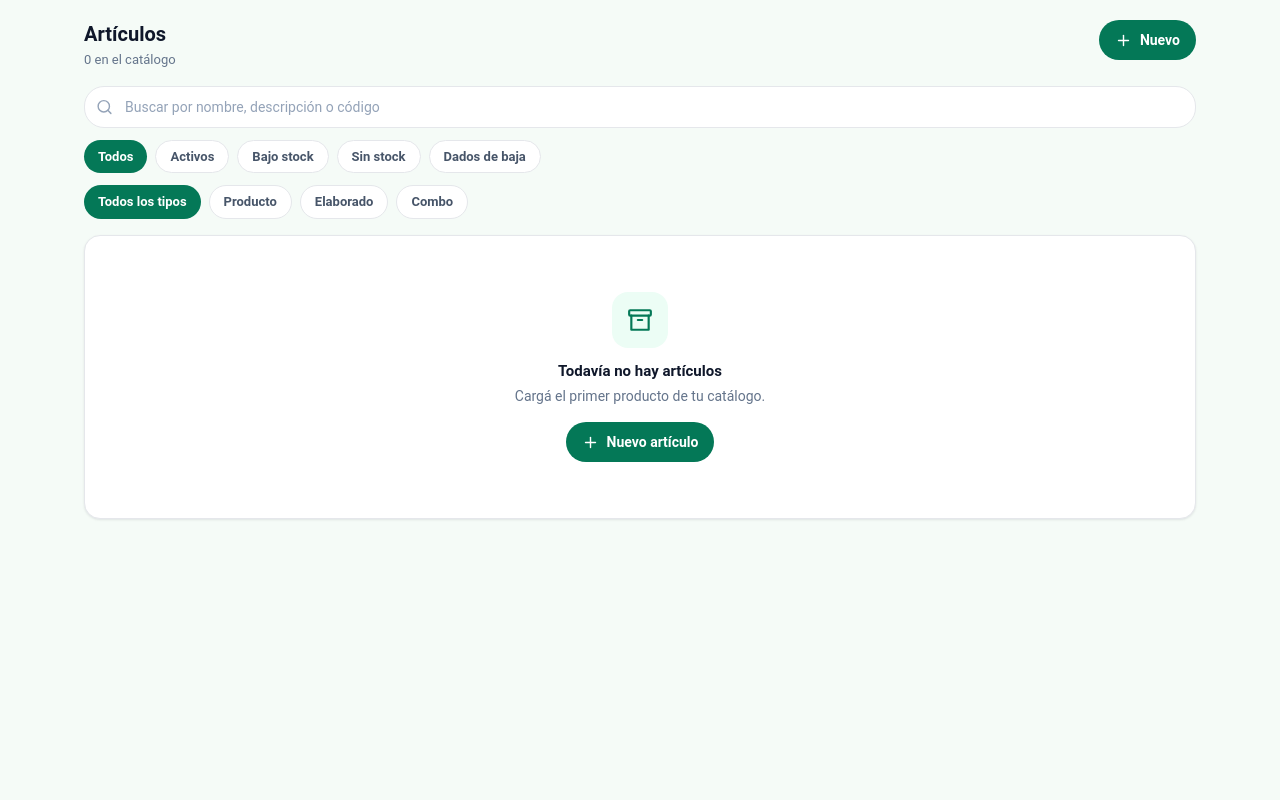
Scenario: el alta: el stock de un producto entra por Movimientos › restaurante: el combo sigue fijando su stock
Click the button "Nuevo". click: point(1147, 40)
box: [1099,20,1196,60]
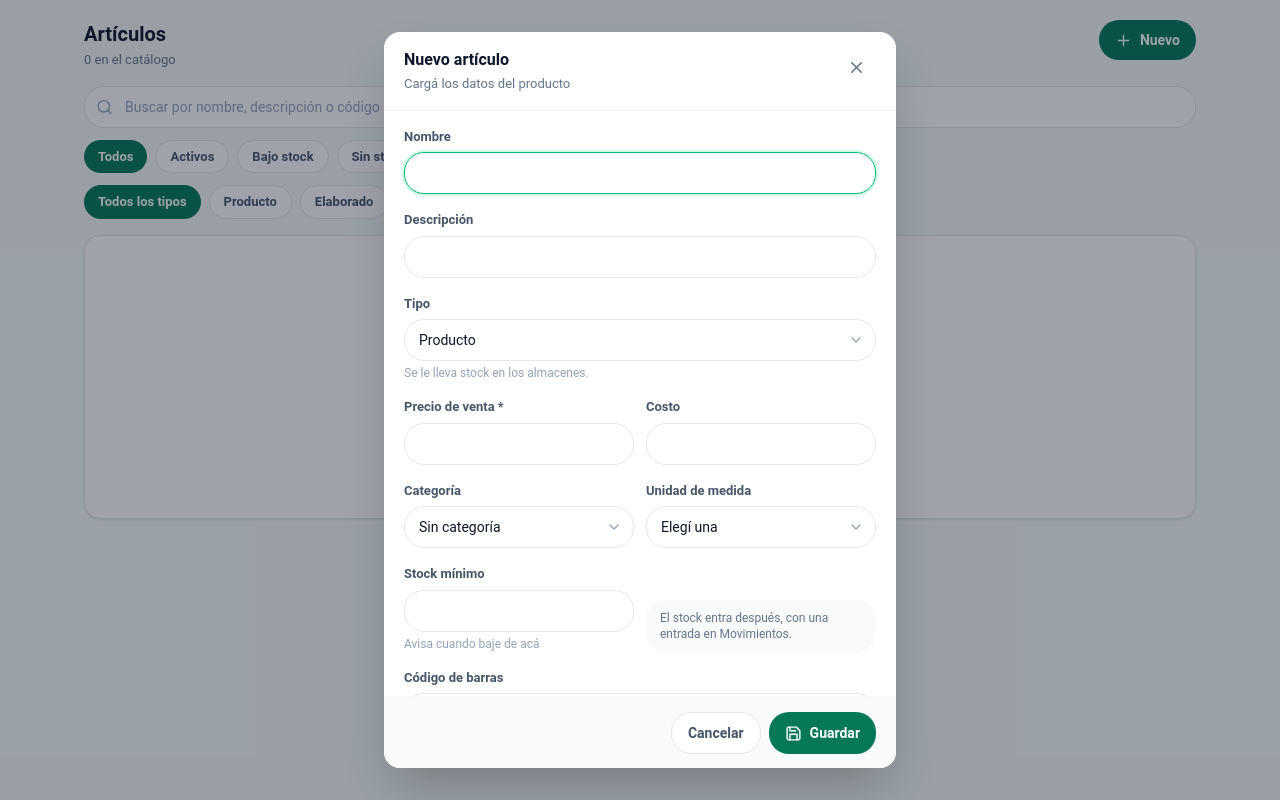
Select "Combo" in the dropdown showing "Producto". click: point(640, 340)
box: [404,319,876,361]
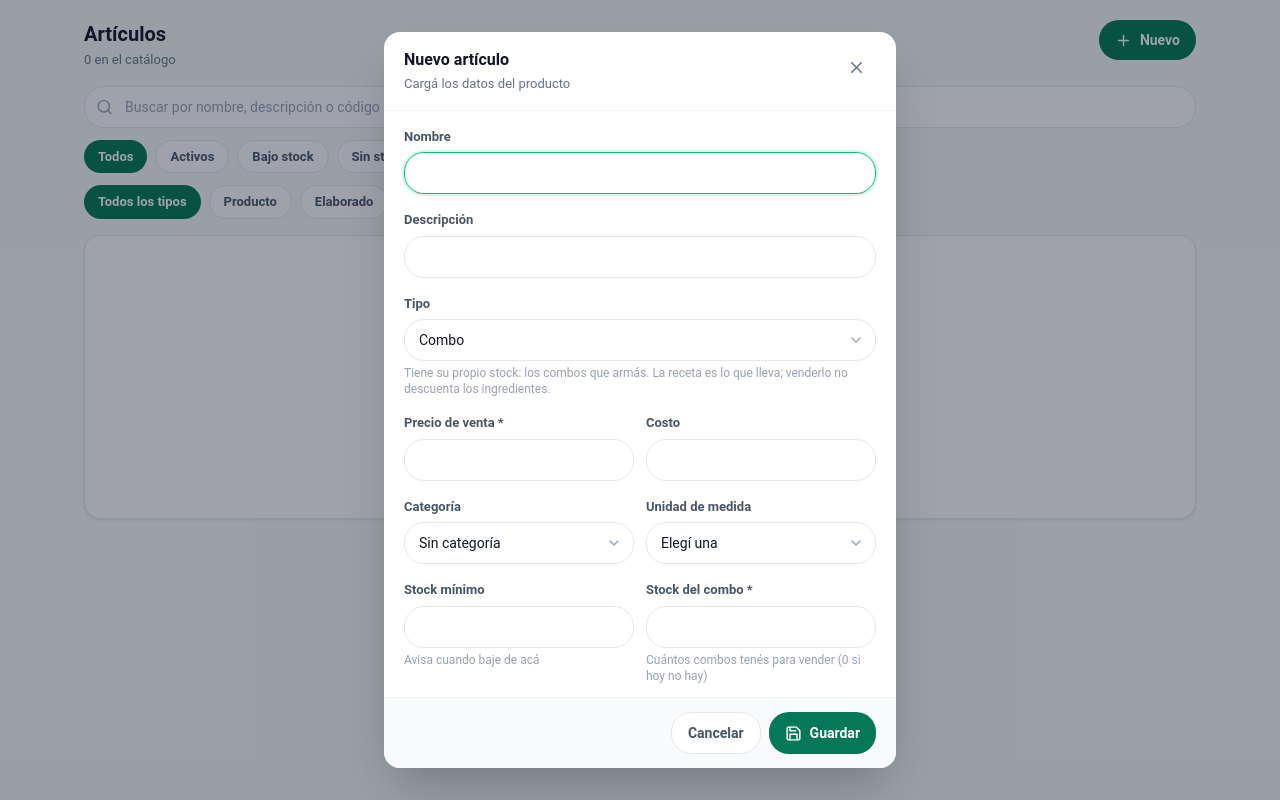
Expected: the text "Stock del combo *" is shown, [646,582,753,597]
Expected: the text "El stock entra después" is gone
